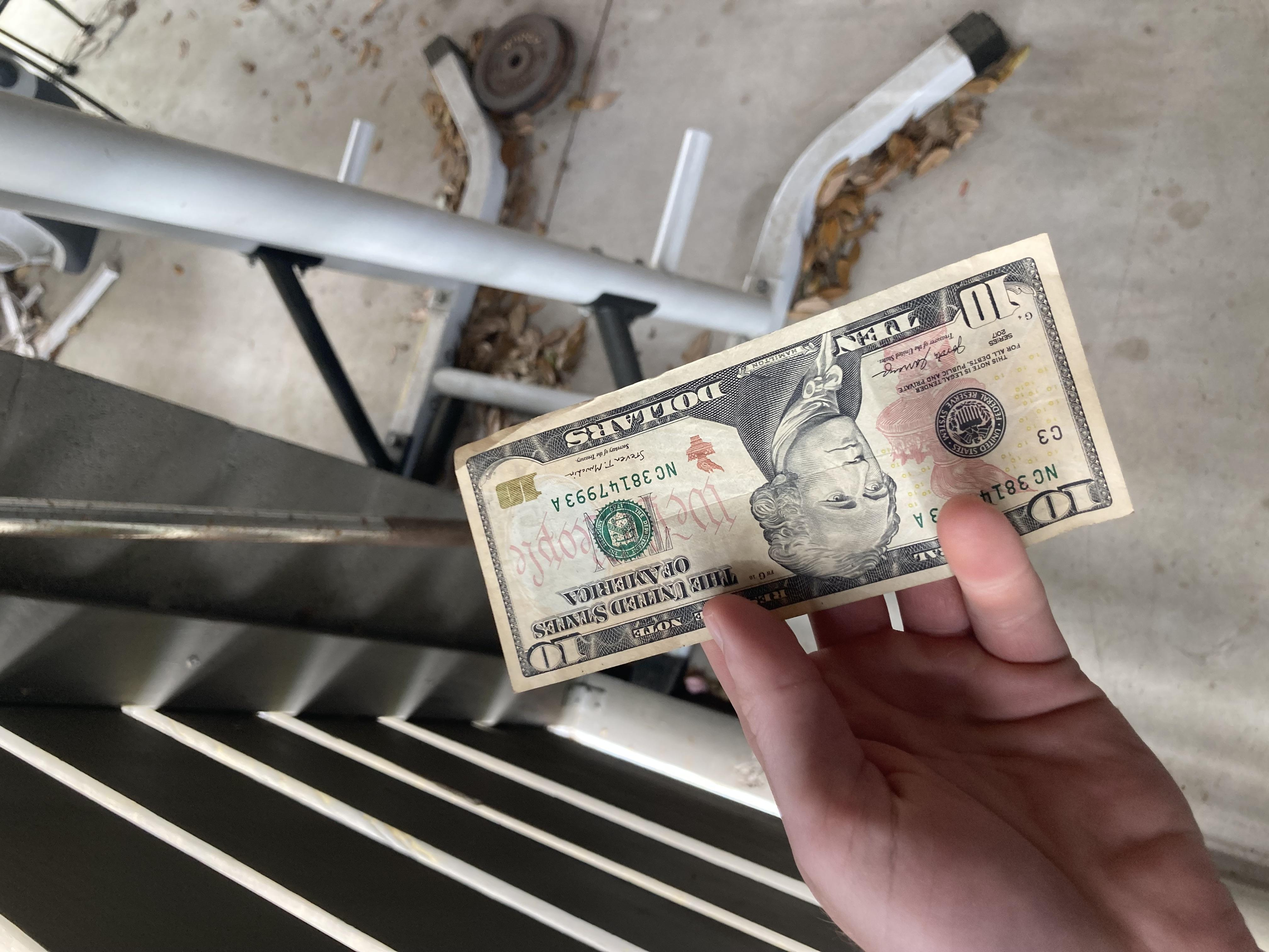ten-front: (346, 337, 964, 849)
